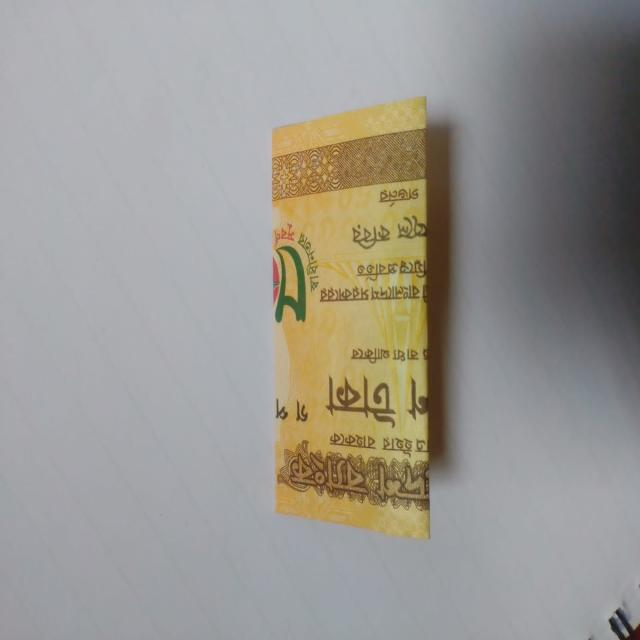Taka: (266, 92, 463, 551)
